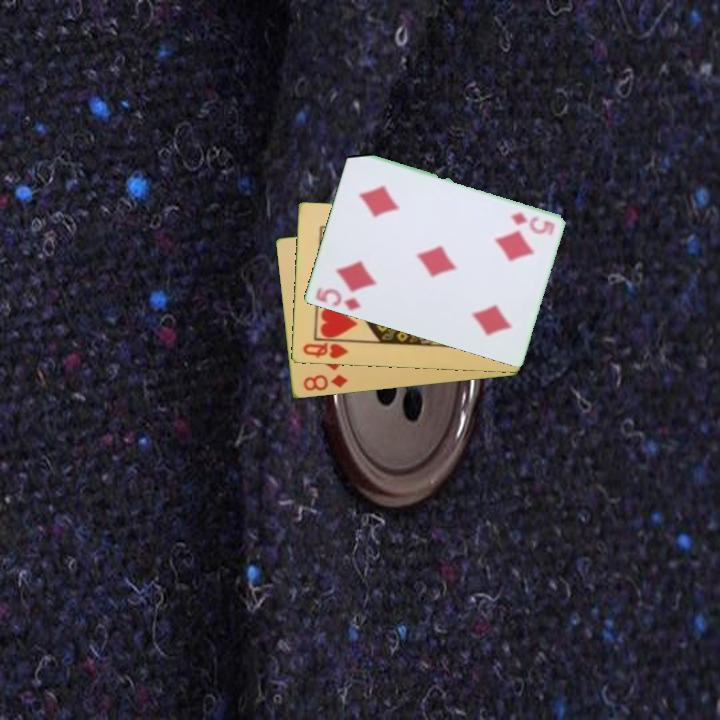5d: (312, 284, 363, 314), (507, 209, 557, 237)
8d: (299, 371, 351, 394)
Qh: (299, 339, 350, 362)
